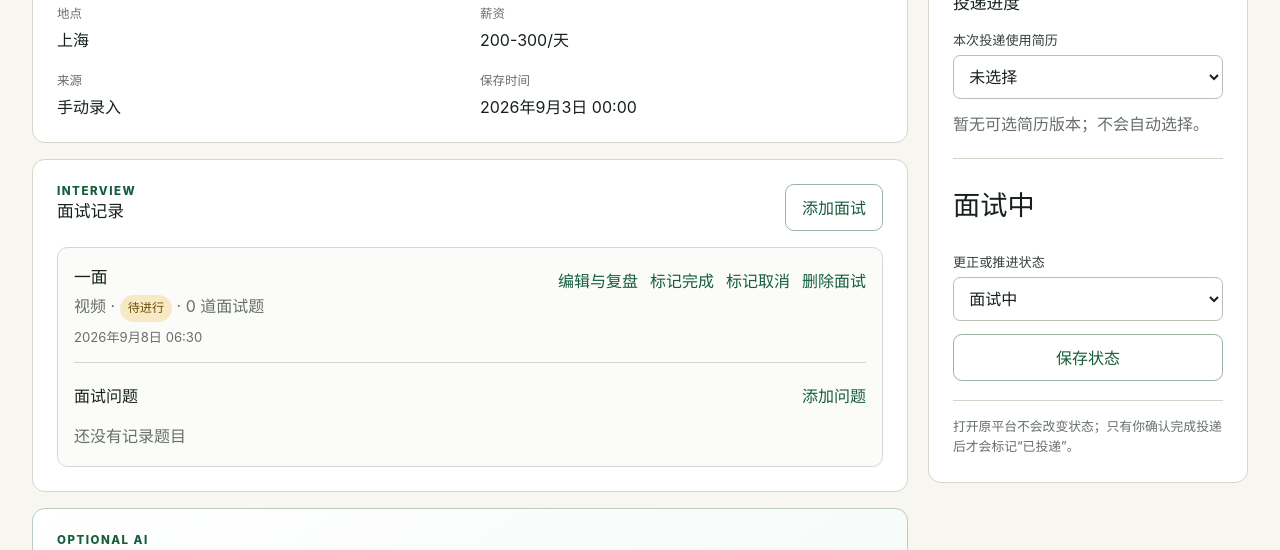
Test: App › edits a round self review and explicitly marks that round completed
(page scrolled)
Click the button "编辑与复盘" at {"x": 598, "y": 280}, box [558,264,638,296]
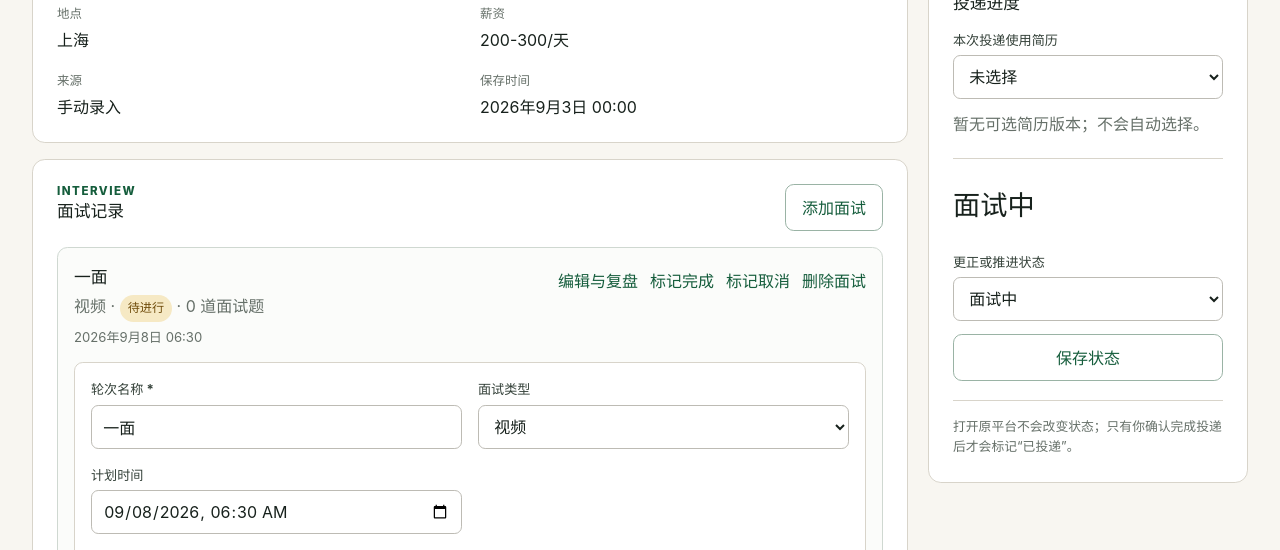
Replace the text in the field labelled "轮次名称 *" with "产品一面" at {"x": 276, "y": 426}, box [91,404,462,448]
(page scrolled)
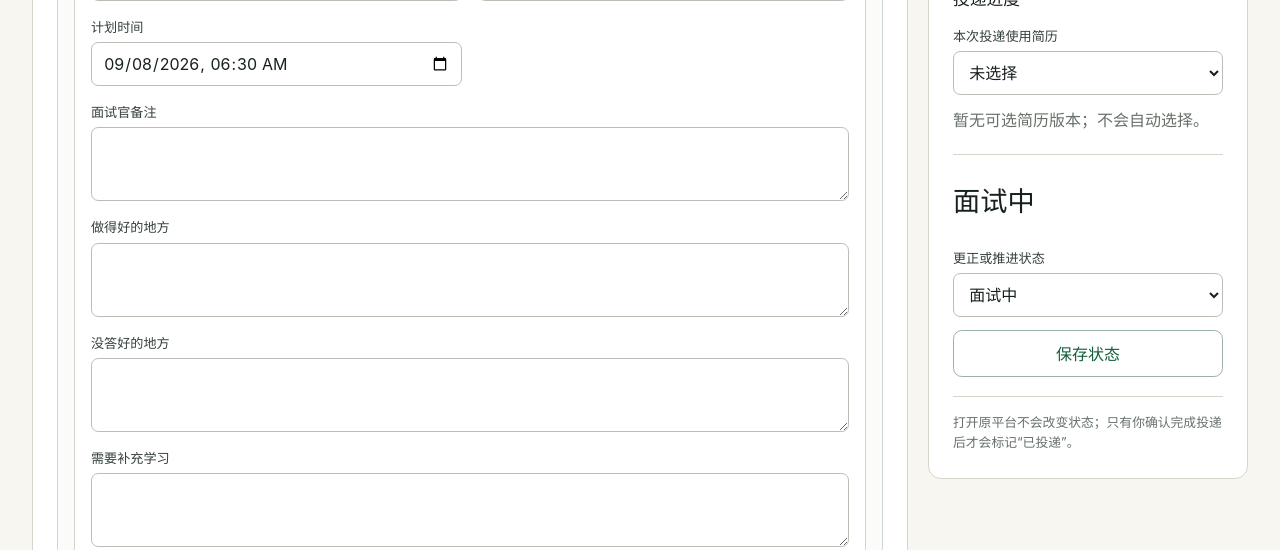
Type "结构化说明了需求拆解过程" into the text box labelled "做得好的地方" at {"x": 470, "y": 280}, box [91,243,849,317]
Type "指标定义不够清楚" into the text box labelled "没答好的地方" at {"x": 470, "y": 395}, box [91,358,849,432]
Type "复习北极星指标" into the text box labelled "需要补充学习" at {"x": 470, "y": 510}, box [91,473,849,547]
(page scrolled)
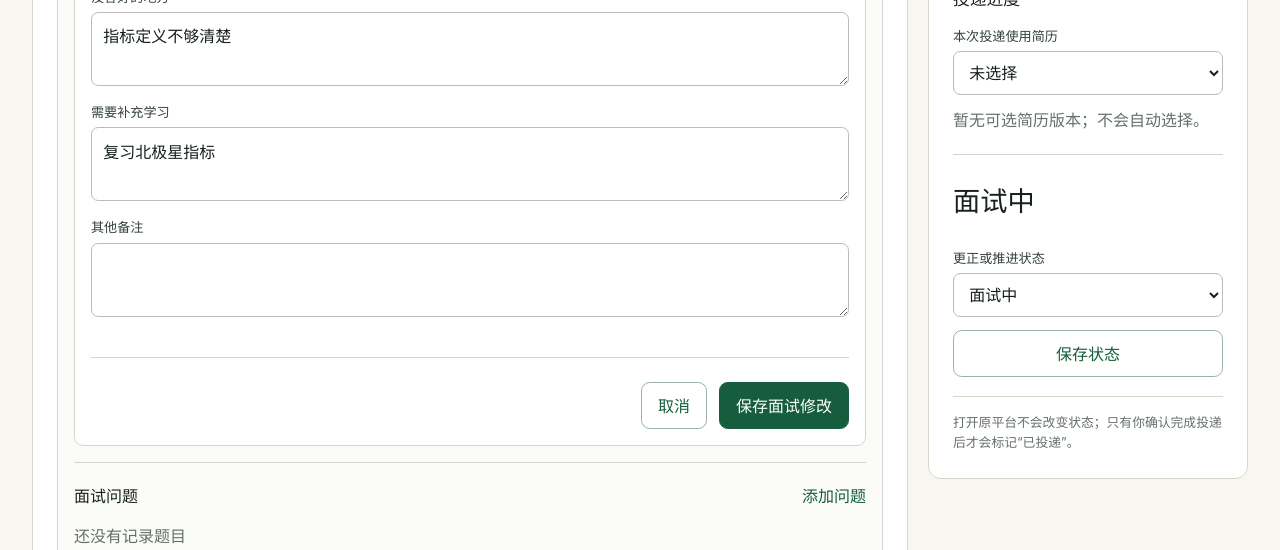
Type "下次先确认问题范围" into the text box labelled "其他备注" at {"x": 470, "y": 280}, box [91,243,849,317]
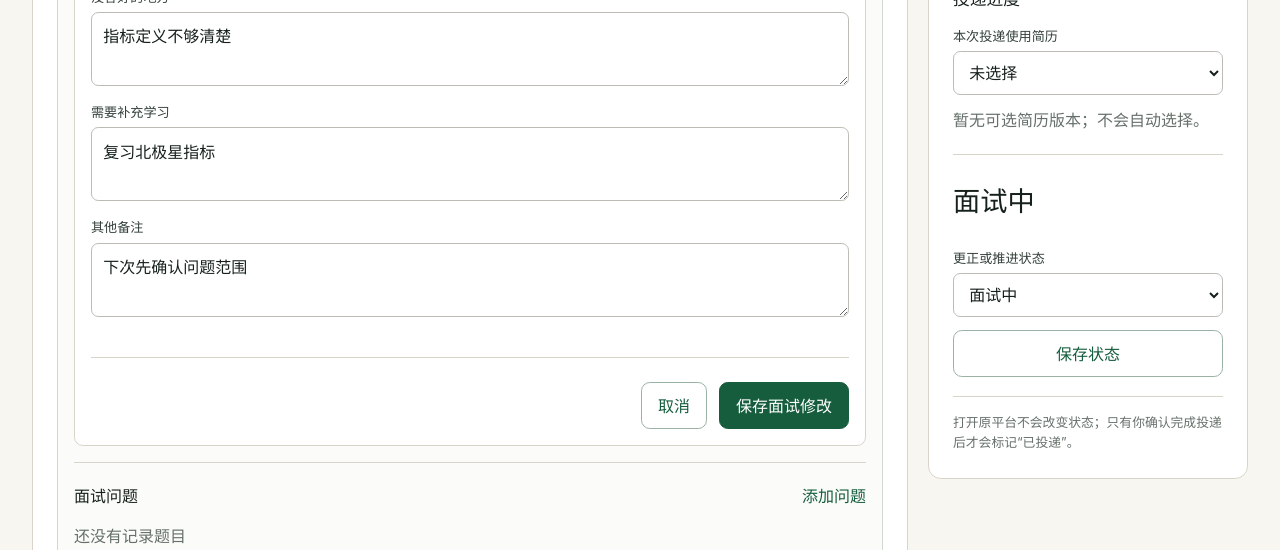
Click the button "保存面试修改" at {"x": 784, "y": 405}, box [719,382,849,428]
(page scrolled)
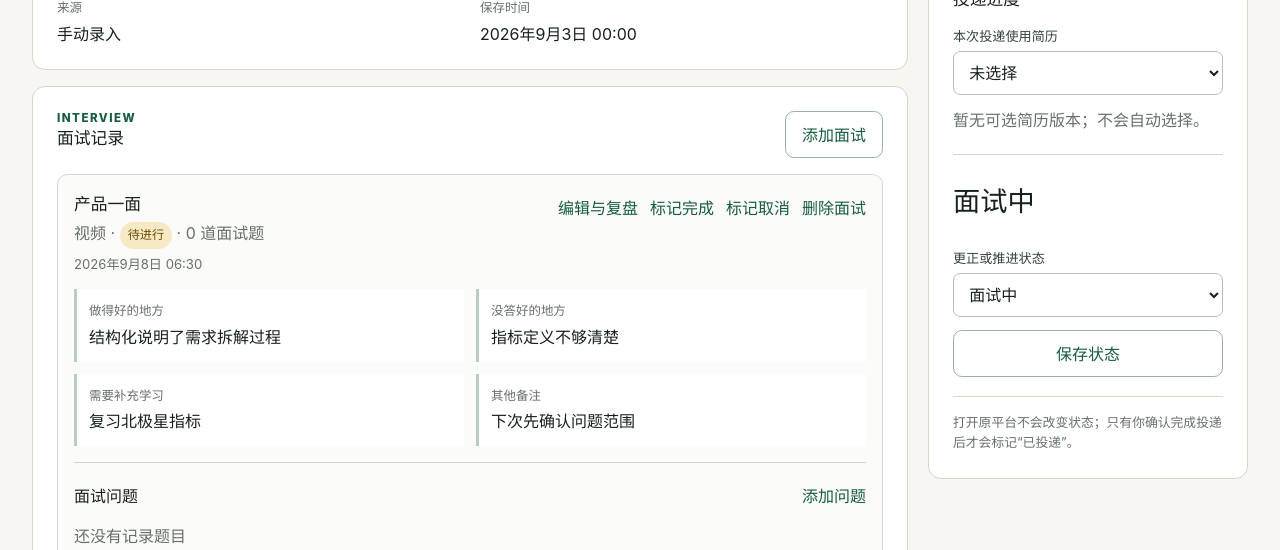
Check: the heading "产品一面" is shown, box [74,194,141,214]
Click the button "标记完成" at {"x": 682, "y": 207}, box [650,191,714,223]
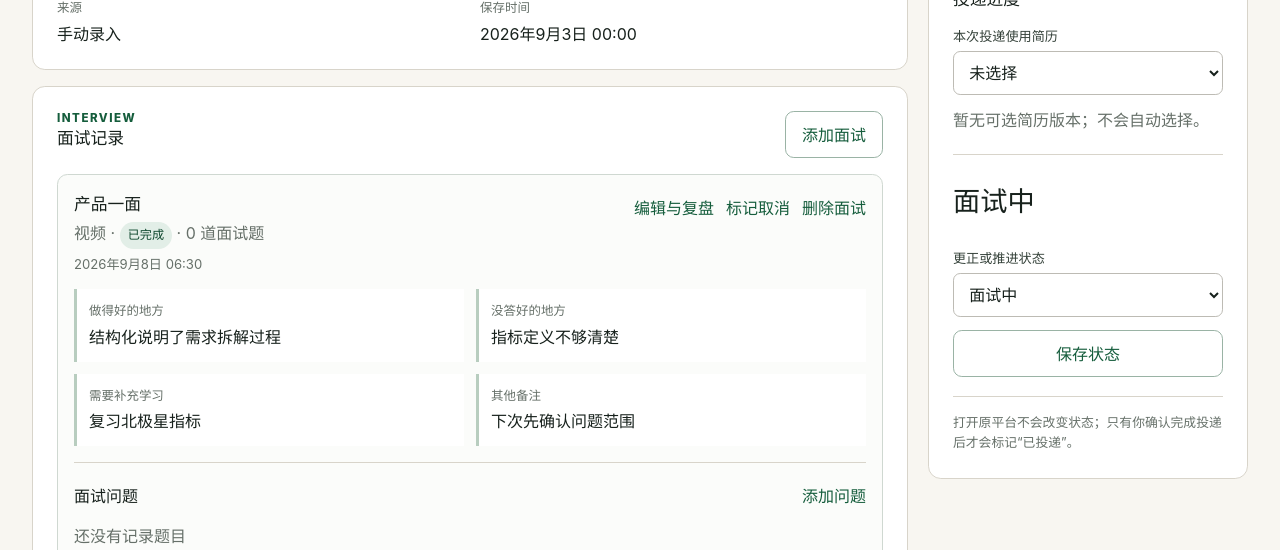
Check: the text "已完成" is shown, box [120,222,172,248]
